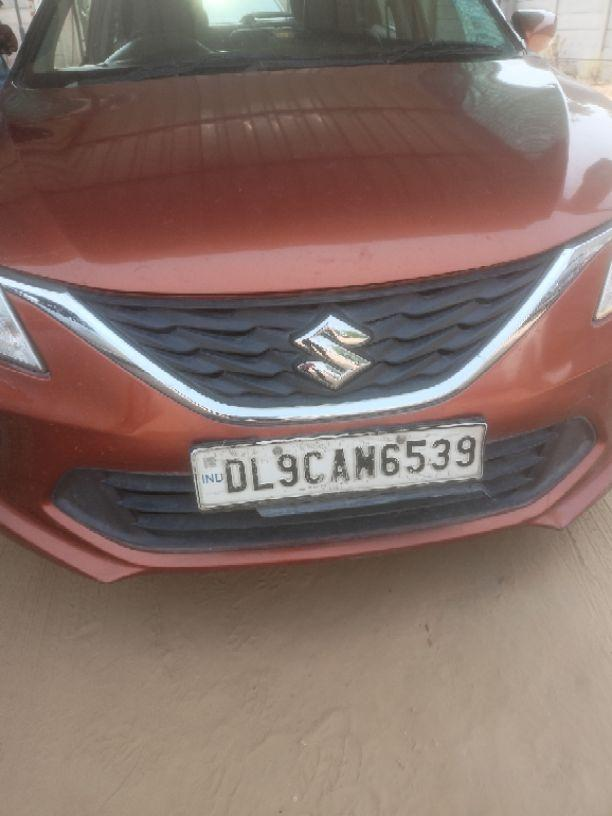license_plate: (188, 417, 487, 513)
